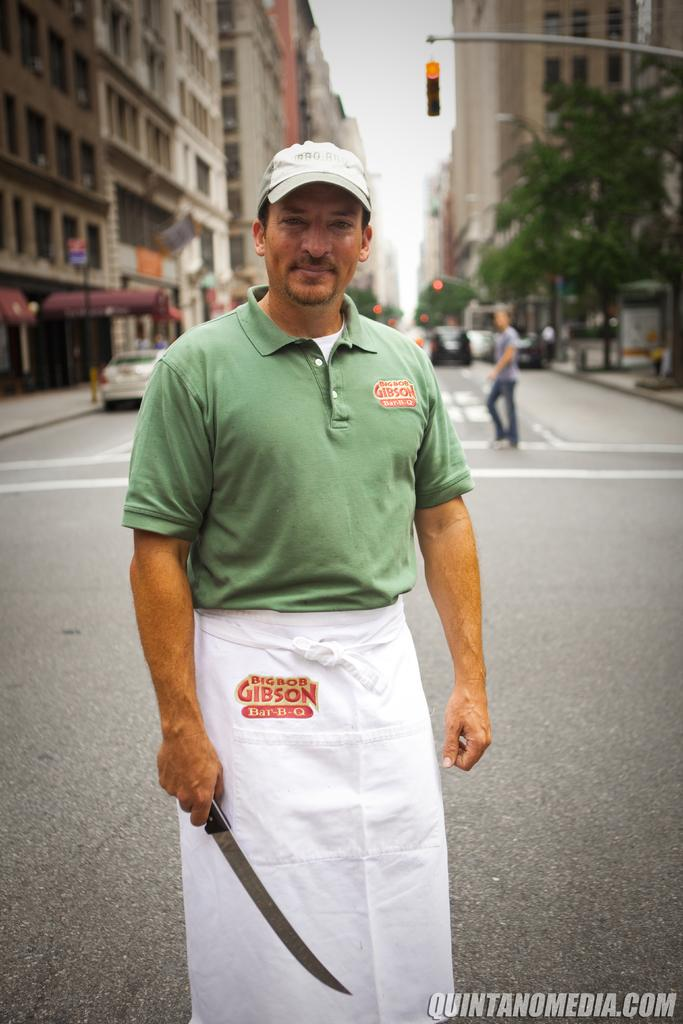Knife: (195, 798, 358, 1000)
